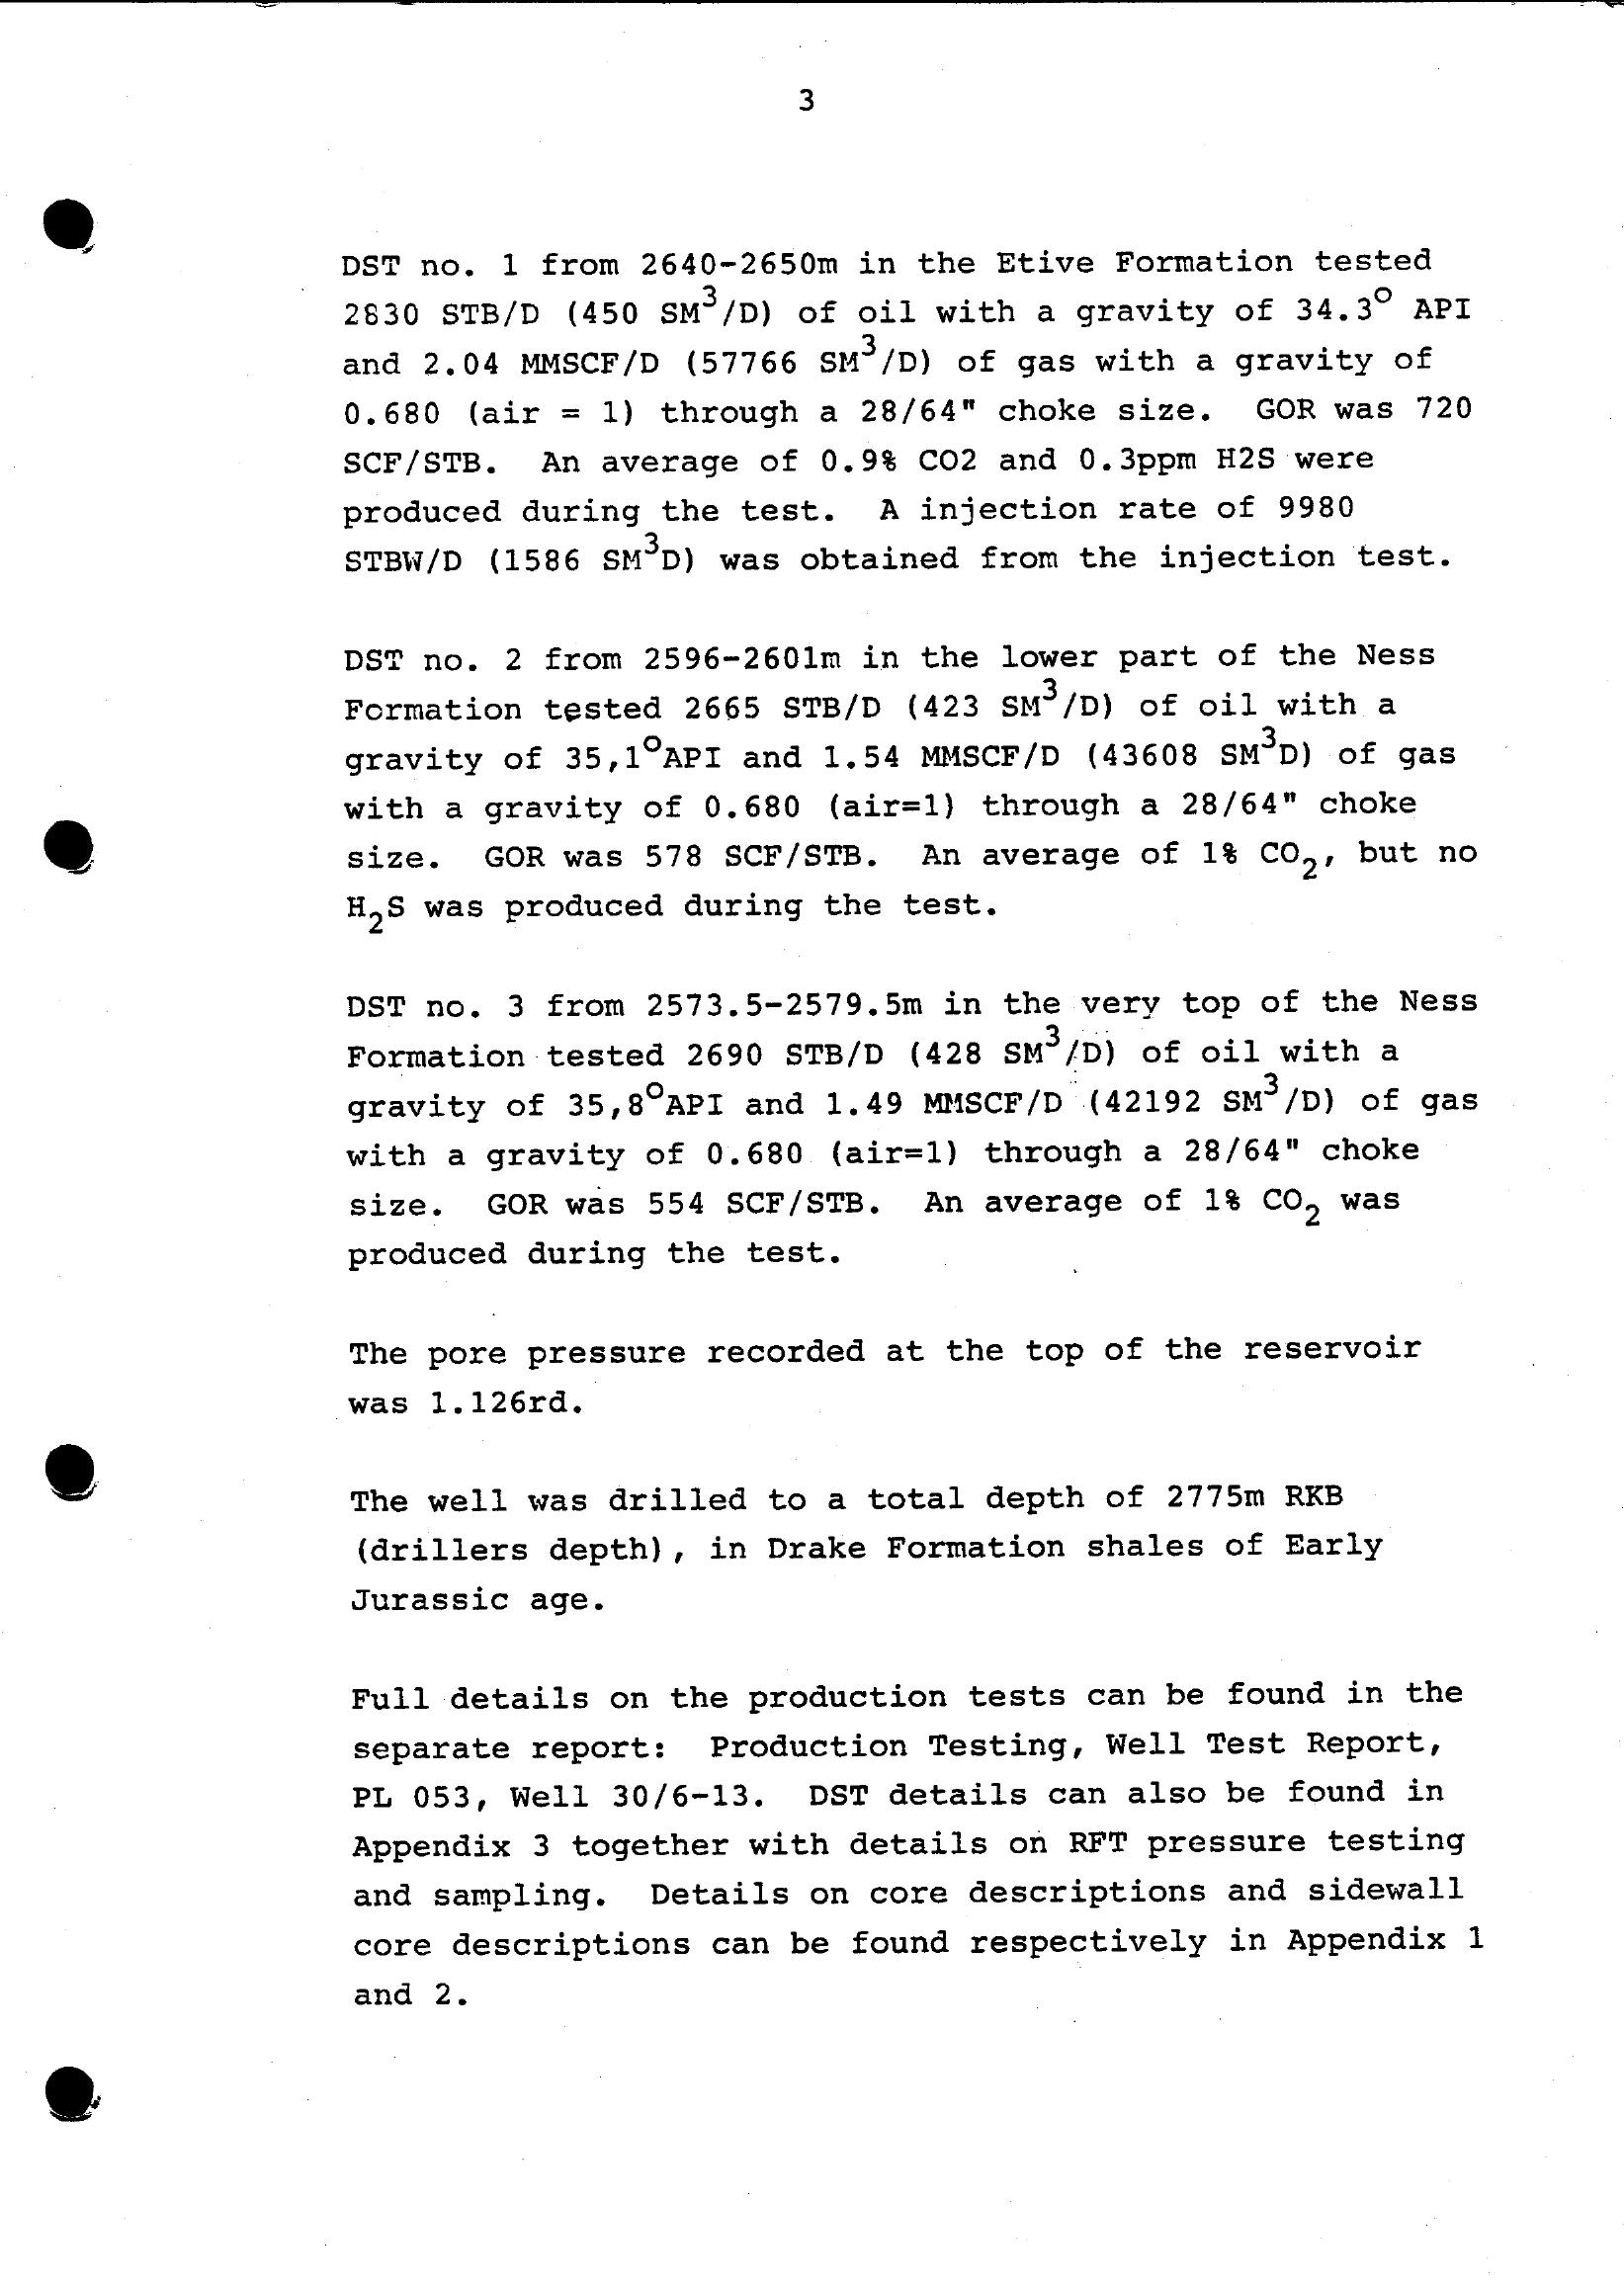text: (318, 232, 1519, 2047)
